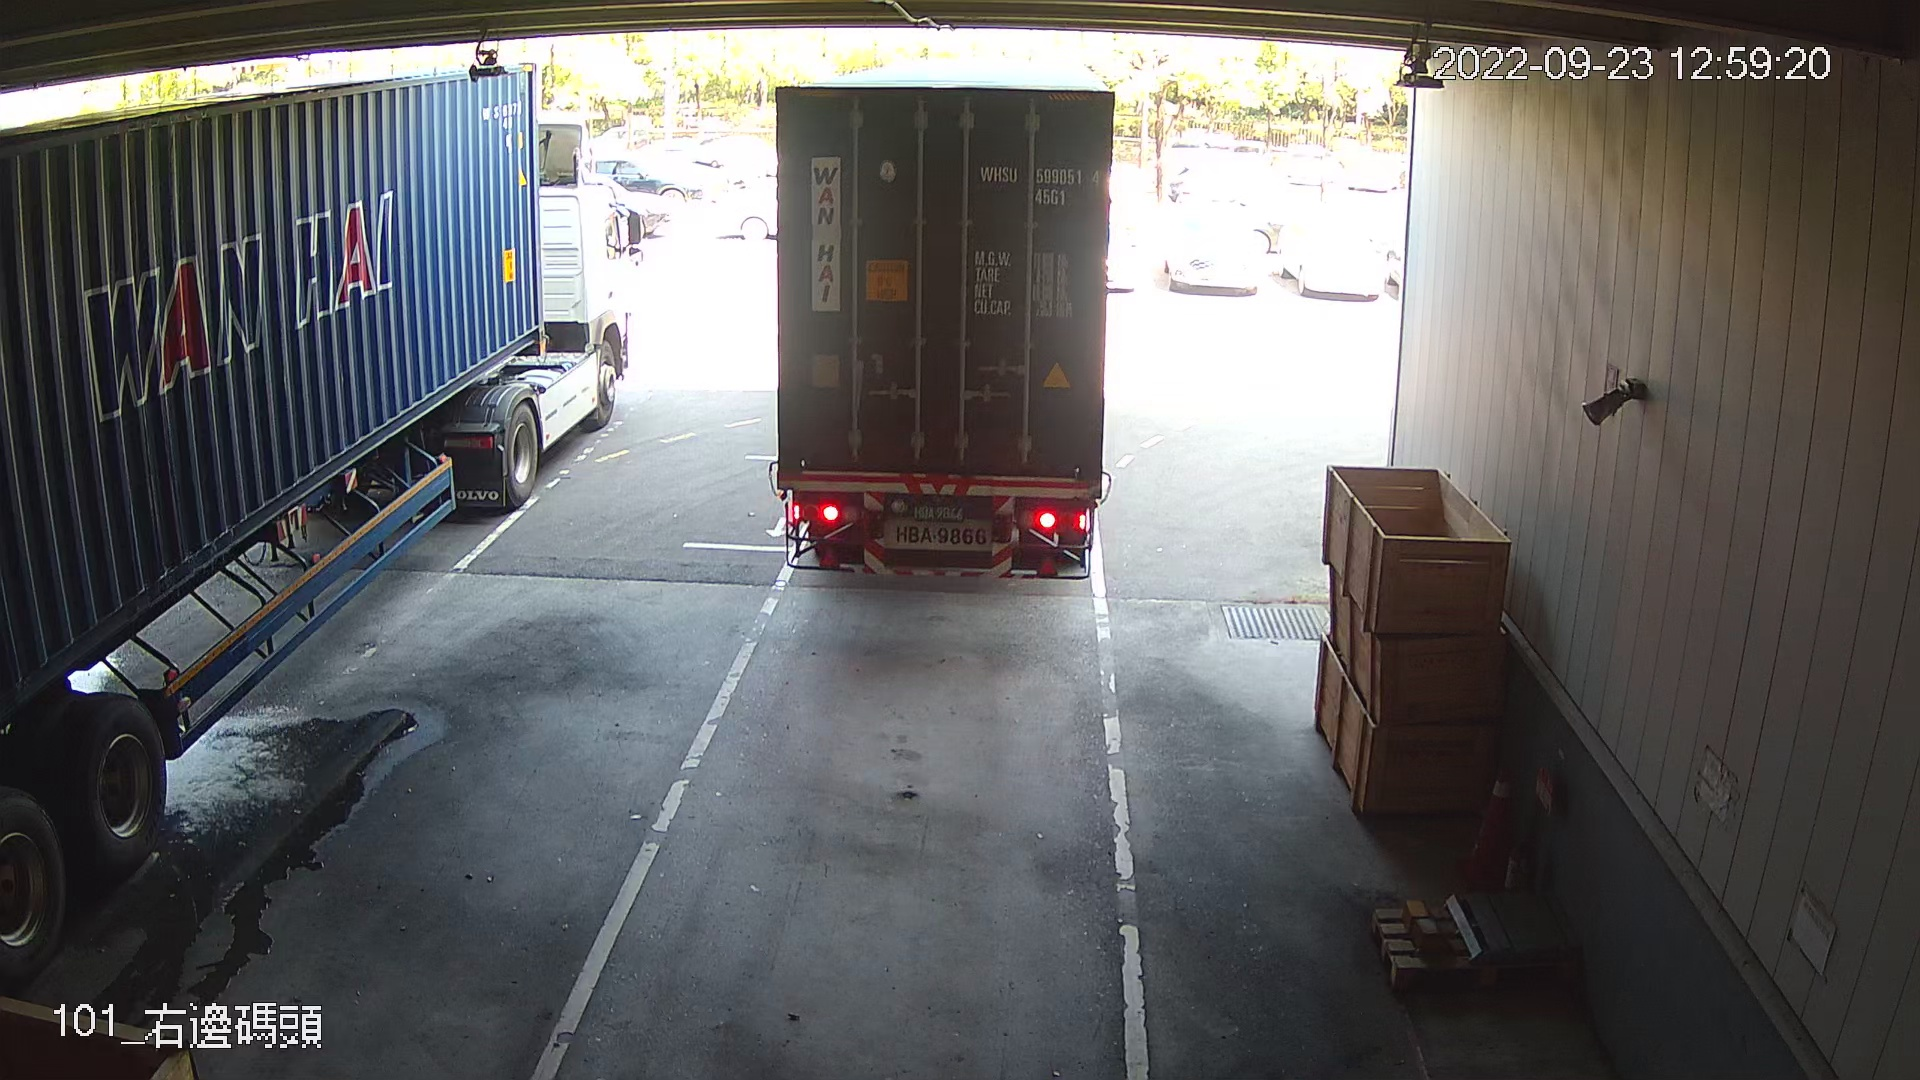container: (975, 156, 1106, 214)
